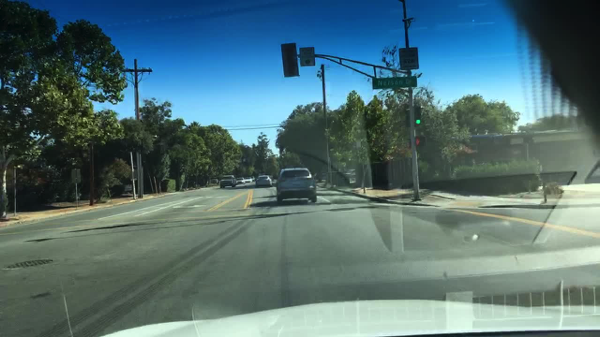car: (275, 167, 318, 204), (219, 175, 237, 190), (255, 175, 272, 189), (236, 177, 246, 184), (211, 177, 219, 184), (244, 176, 251, 183), (250, 175, 255, 181)
traffic light: (280, 44, 299, 77), (416, 134, 427, 148), (414, 105, 421, 124)
traffic sign: (371, 76, 418, 89), (399, 48, 418, 69), (299, 46, 315, 65), (74, 168, 81, 182)
